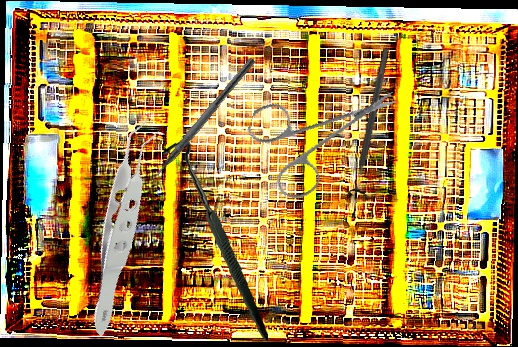Chopper: (138, 50, 257, 189)
Fixation Ring: (344, 45, 399, 203)
Hook Surgical: (150, 139, 282, 342)
Iris Scissors: (231, 51, 399, 220)
Tissue Forceps: (15, 109, 240, 338)
